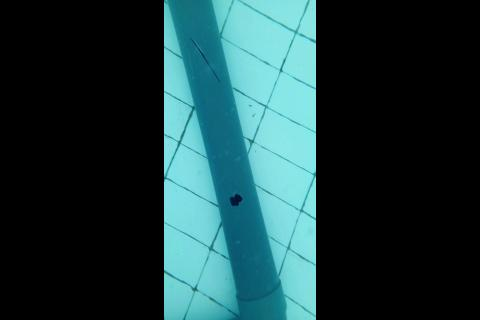kebocoran: (228, 192, 243, 207)
keretakan: (189, 35, 221, 84)
